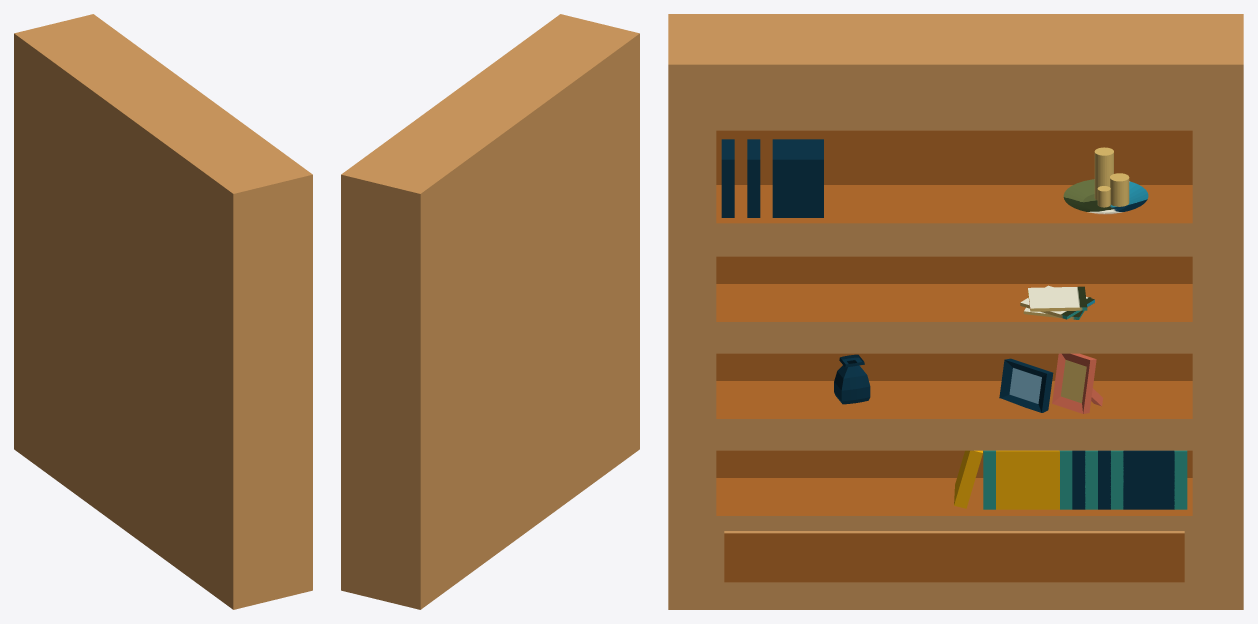
File: ESTANTERIA2.glb
The picture shows the model from 3 angles, left to right: view 1: azimuth 30°, elevation 25°; view 2: azimuth 150°, elevation 25°; view 3: azimuth 270°, elevation 25°; orthographic projection. The views are drawn at different scales.
Visible parts, largest first — view 1: ESTANTERIA2; view 2: ESTANTERIA2; view 3: ESTANTERIA2.
Boxes of the visible parts, x1,y1,x2,y2 form: ESTANTERIA2: (14, 14, 312, 609); ESTANTERIA2: (341, 14, 639, 609); ESTANTERIA2: (668, 14, 1243, 609).
Bounding box in the file's own units: 0.9724 × 4.66 × 4.46.
1 material, 1 textured.
